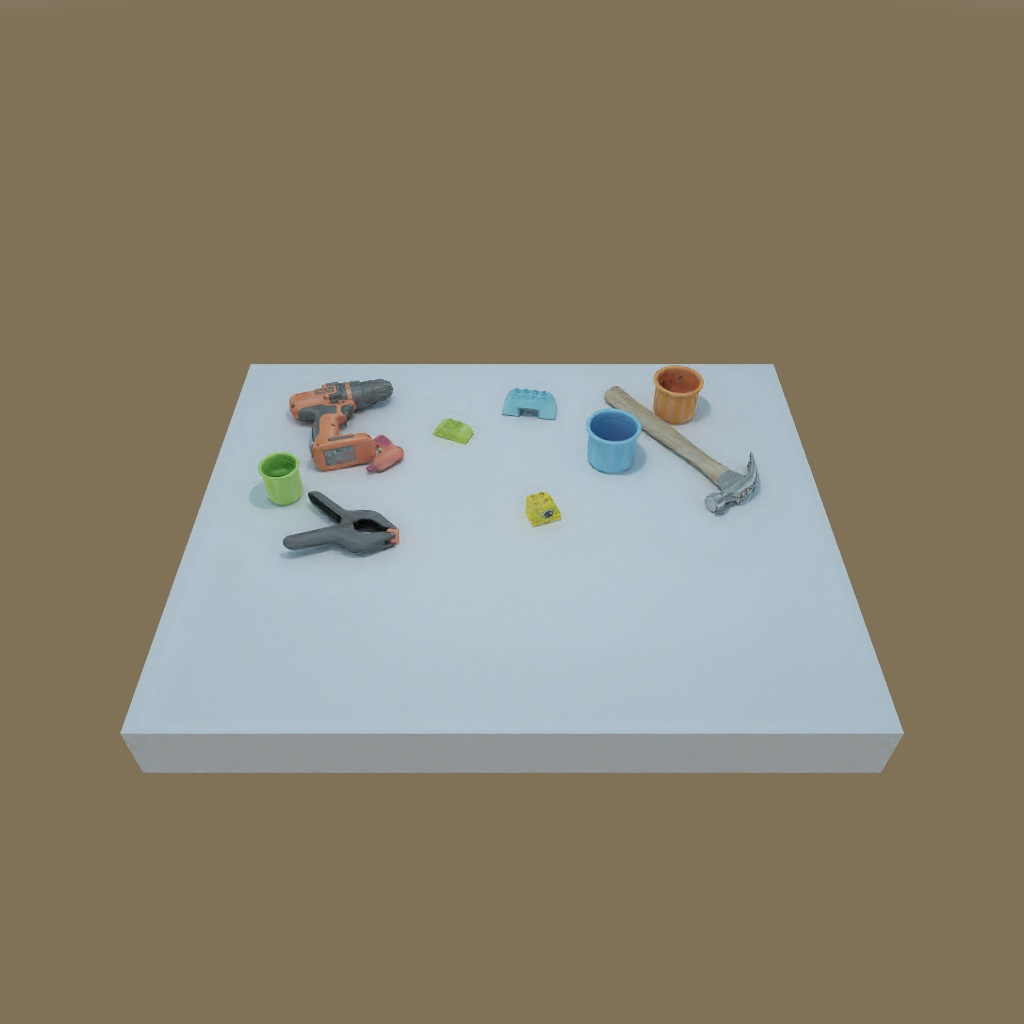hammer: (603, 385, 763, 513)
power_drill: (288, 380, 402, 465)
